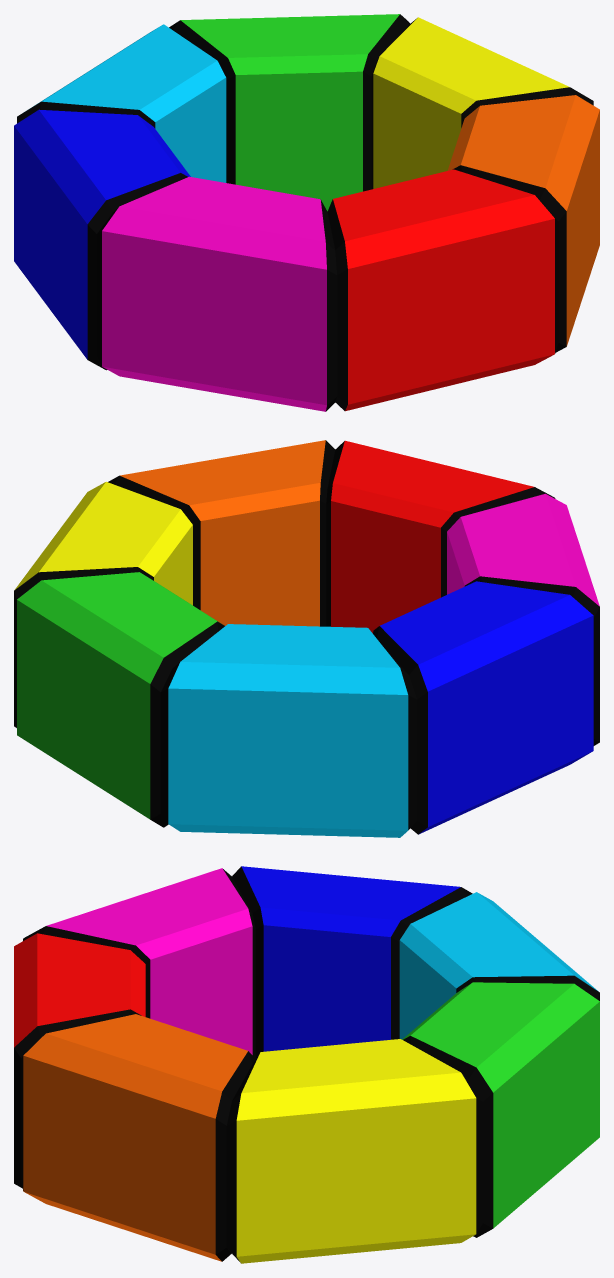
Rendered from NutRainbow.fbx.
3 renders of one model, top to bottom at view 1: azimuth 30°, elevation 25°; view 2: azimuth 150°, elevation 25°; view 3: azimuth 270°, elevation 25°, orthographic.
Visible parts, largest first — view 1: RainbowNut; view 2: RainbowNut; view 3: RainbowNut.
Boxes of the visible parts, bbox=[...] form: RainbowNut: bbox=[14, 14, 599, 411]; RainbowNut: bbox=[14, 440, 599, 837]; RainbowNut: bbox=[14, 866, 599, 1263].
Size of the model in its own units: 148 by 148 by 47.5.
Materials: 1 (1 with a texture image).
